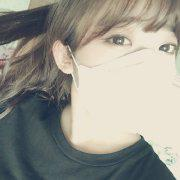OK: (73, 23, 180, 130)
